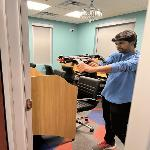Senapan: (48, 36, 102, 82)
